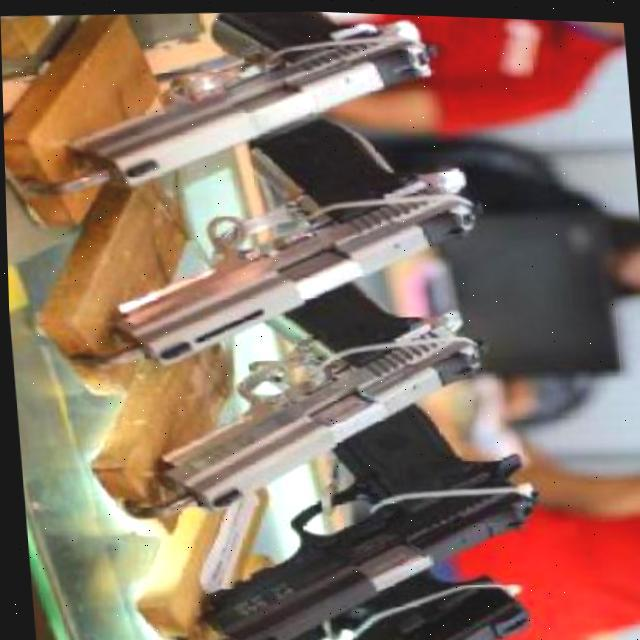gun: (87, 100, 494, 378), (131, 266, 503, 526), (182, 386, 556, 640), (39, 1, 456, 205), (264, 554, 529, 640)
